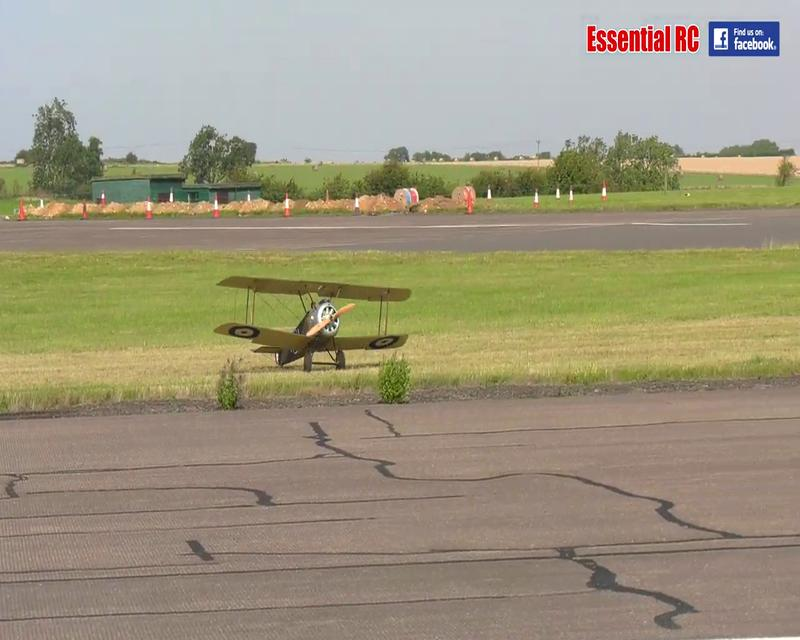UAV: (212, 274, 411, 372)
